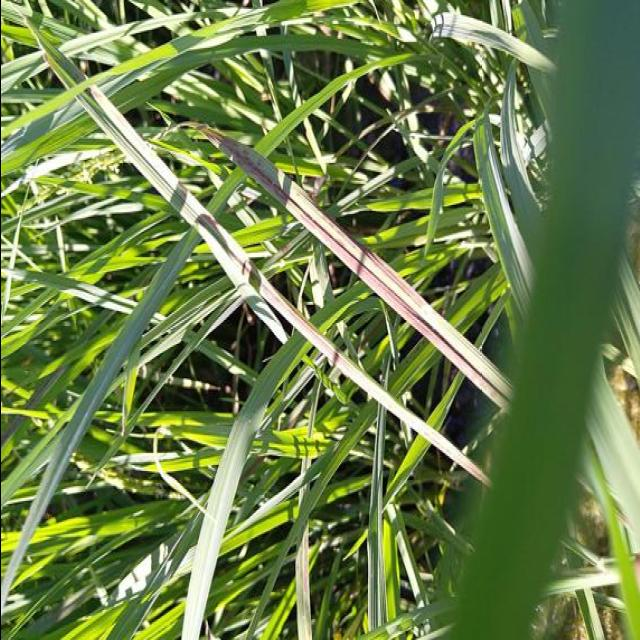Leaf Streak: (172, 181, 491, 486), (198, 124, 512, 410)
